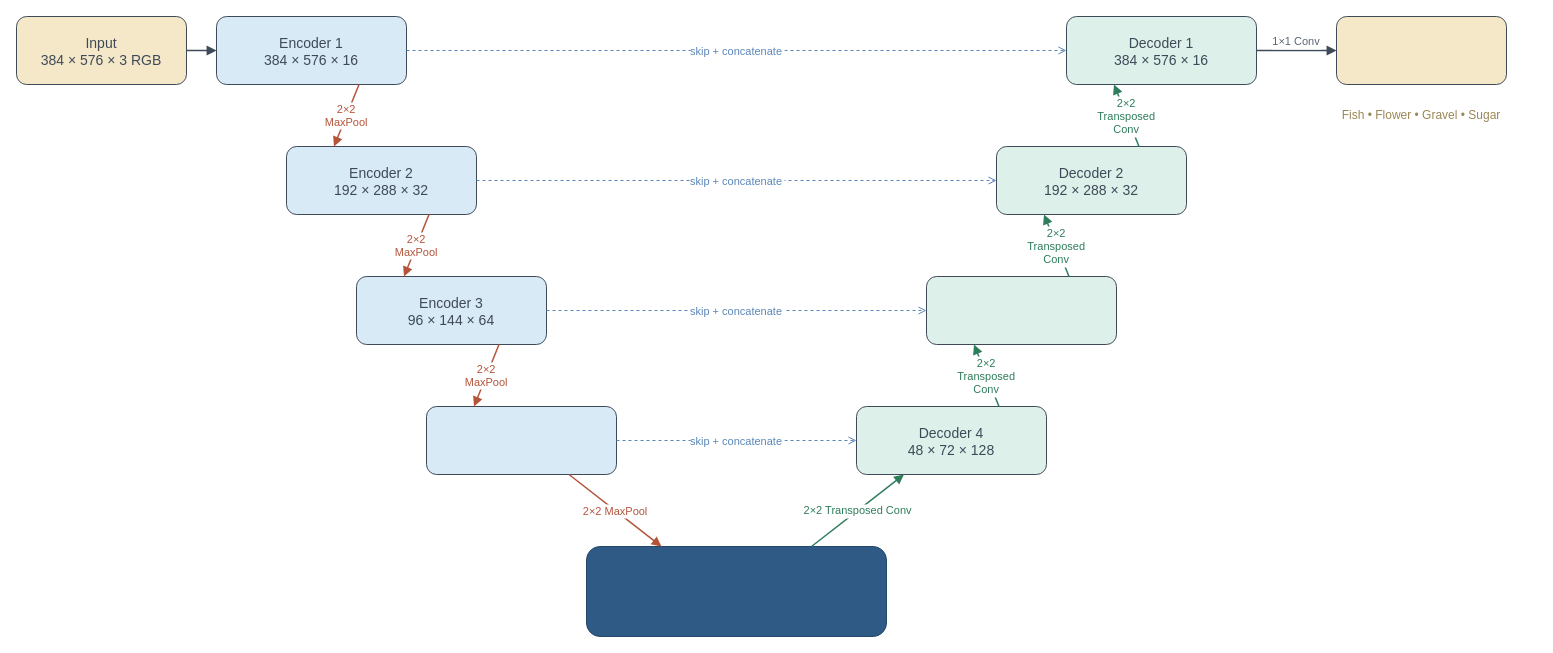
Image size: 1553x653. Some labels were removed from this diagram. The shapes that lost their labels are listed below. From the top down, each one's centre as x and y in pixels, then its label:
At point 1421,50: "Output 384 × 576 × 4 Sigmoid".
At point 1021,310: "Decoder 3 96 × 144 × 64".
At point 521,440: "Encoder 4 48 × 72 × 128".
At point 736,591: "Bottleneck 24 × 36 × 256 2 × Conv 3×3 + ReLU".
